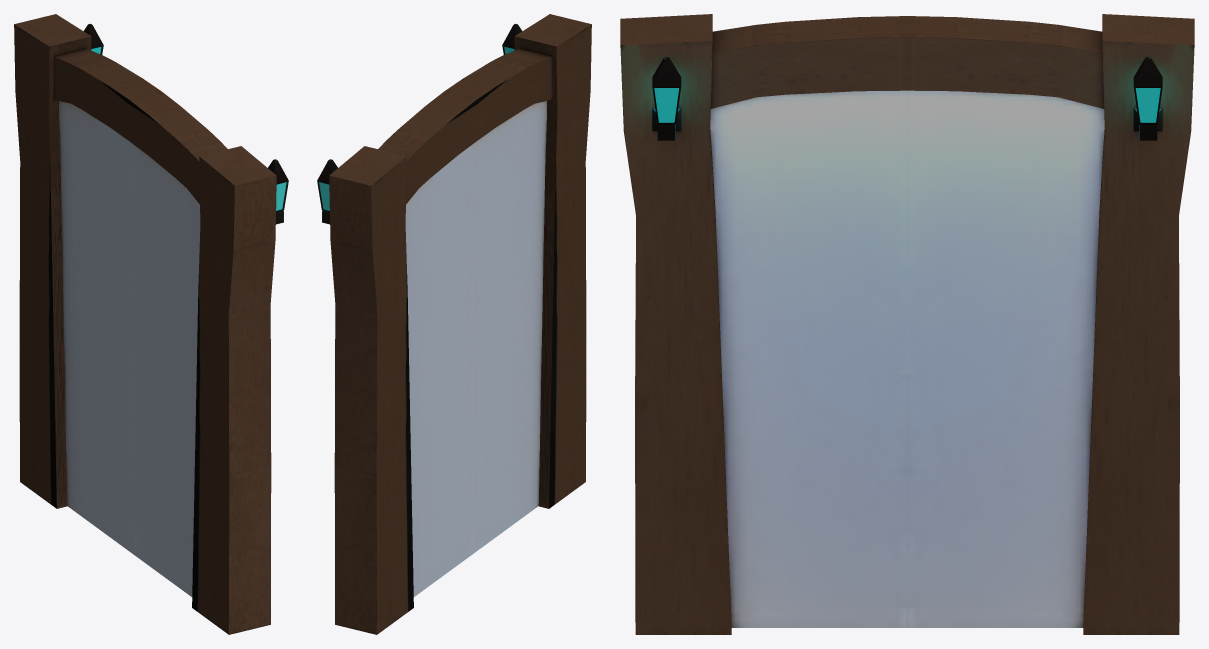
Rendered from card_door_open.obj.
3 renders of one model, left to right at view 1: azimuth 30°, elevation 25°; view 2: azimuth 150°, elevation 25°; view 3: azimuth 270°, elevation 25°, orthographic. The views are drawn at different scales.
Visible parts, largest first — view 1: Cube.002; view 2: Cube.002; view 3: Cube.002.
Boxes of the visible parts, x1=… form: Cube.002: x1=14, y1=14, x2=288, y2=634; Cube.002: x1=317, y1=14, x2=591, y2=634; Cube.002: x1=620, y1=14, x2=1194, y2=634.
Bounding box in the file's own units: 0.6474 × 4.27 × 3.73.
